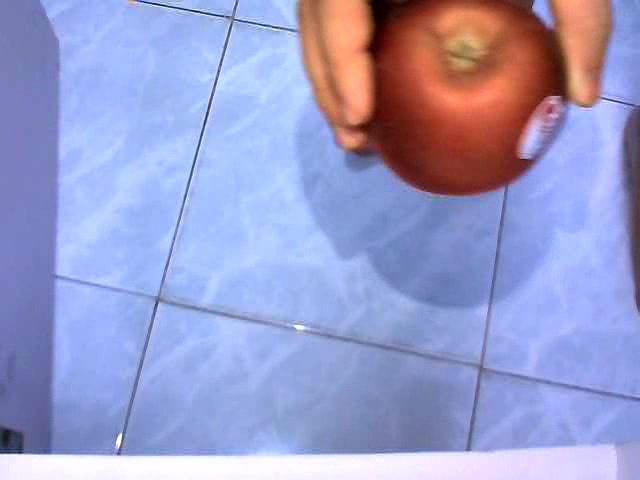apple: (365, 0, 571, 199)
